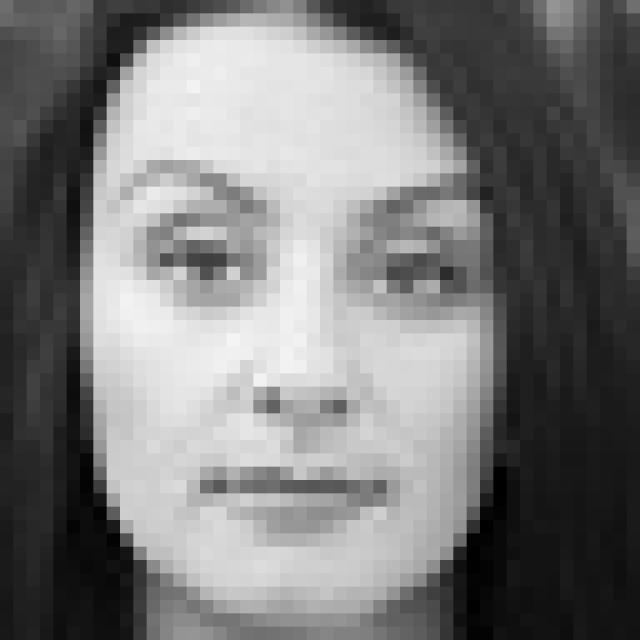neutral: (109, 145, 499, 550)
